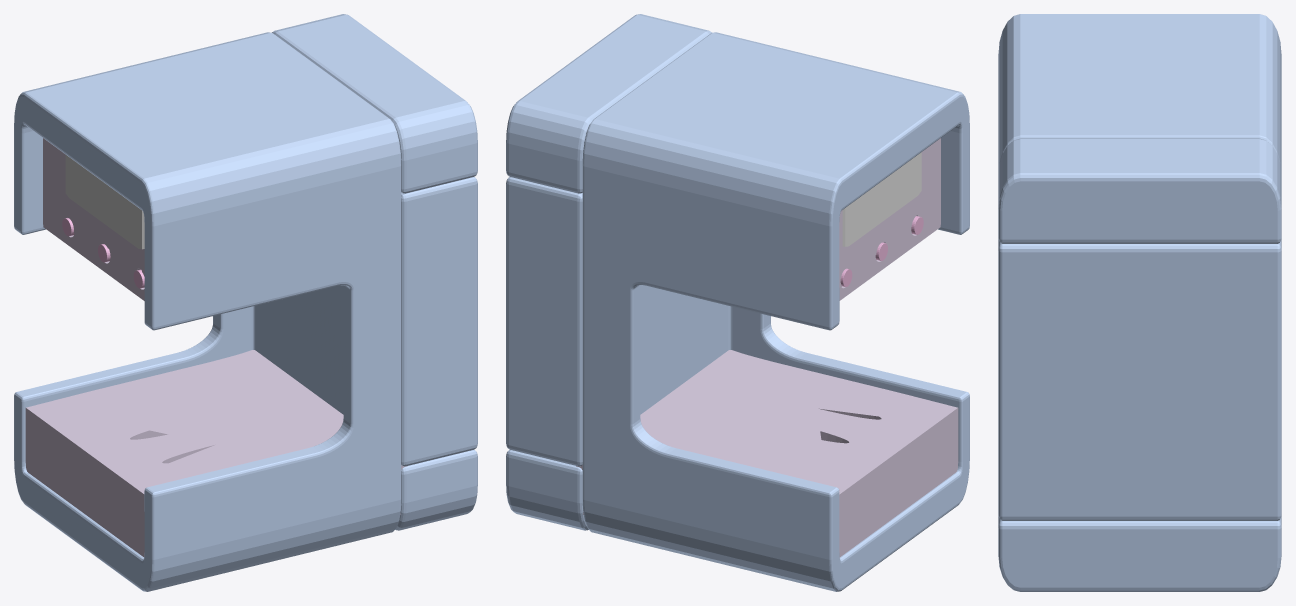
Rendered from coffee_maker.fbx.
3 views of the same model, side by side, from view 1: azimuth 30°, elevation 25°; view 2: azimuth 150°, elevation 25°; view 3: azimuth 270°, elevation 25° (orthographic).
Parts seen in each view (by area): view 1: coffee_maker; view 2: coffee_maker; view 3: coffee_maker.
Boxes of the visible parts, x1,y1,x2,y2 form: coffee_maker: (14, 14, 477, 591); coffee_maker: (506, 14, 969, 591); coffee_maker: (998, 14, 1281, 591).
Size of the model in its own units: 137 by 166 by 101.
